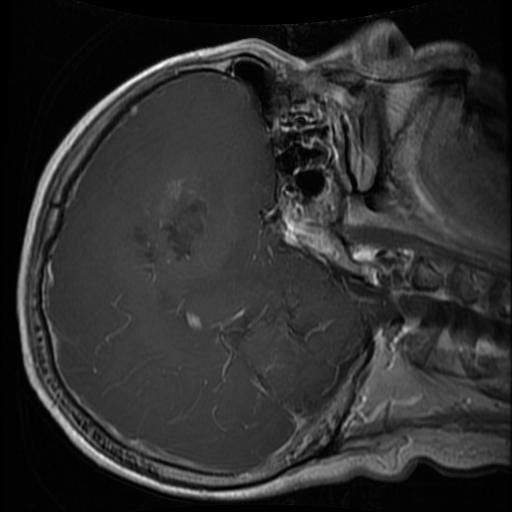glioma: (133, 189, 214, 286)
